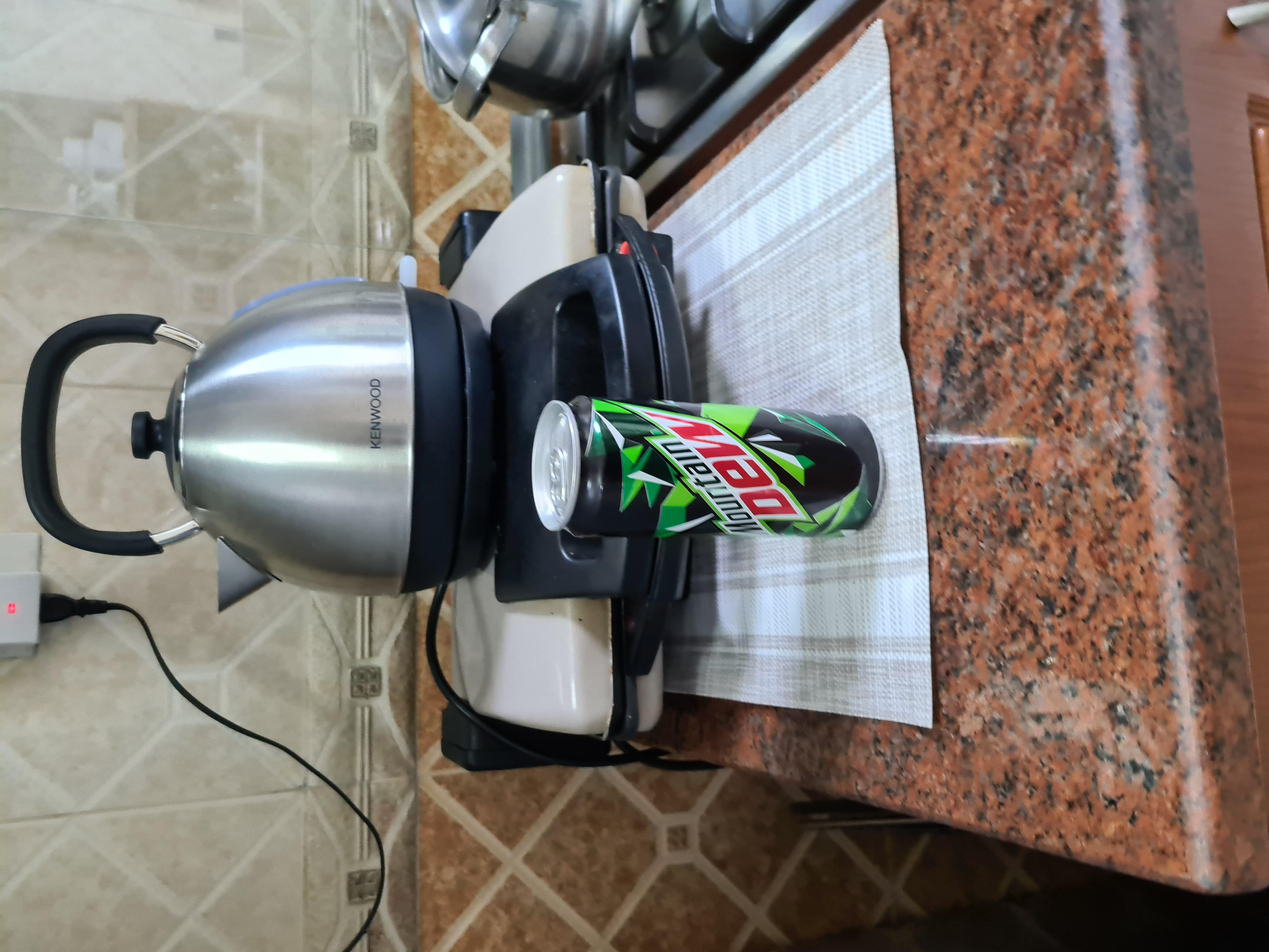debris: (520, 376, 891, 555)
